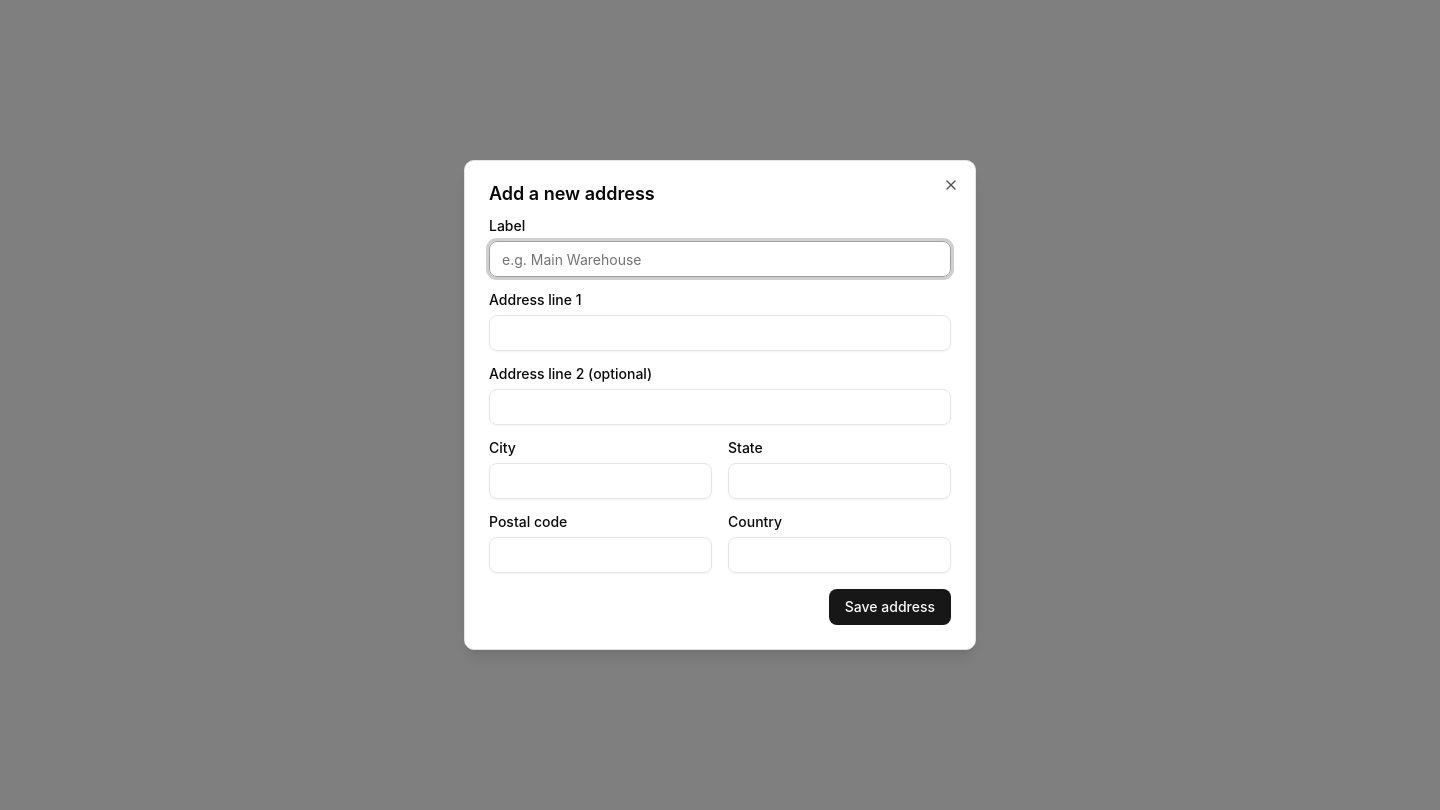
AddLocationDialog › shows a success toast and closes the dialog when saving succeeds
Step 1. Type "Main Warehouse" into the field labelled "Label" → x=720, y=259, box left=489, top=241, right=951, bottom=277
Step 2. Type "1 Main St" into the field labelled "Address line 1" → x=720, y=333, box left=489, top=315, right=951, bottom=351
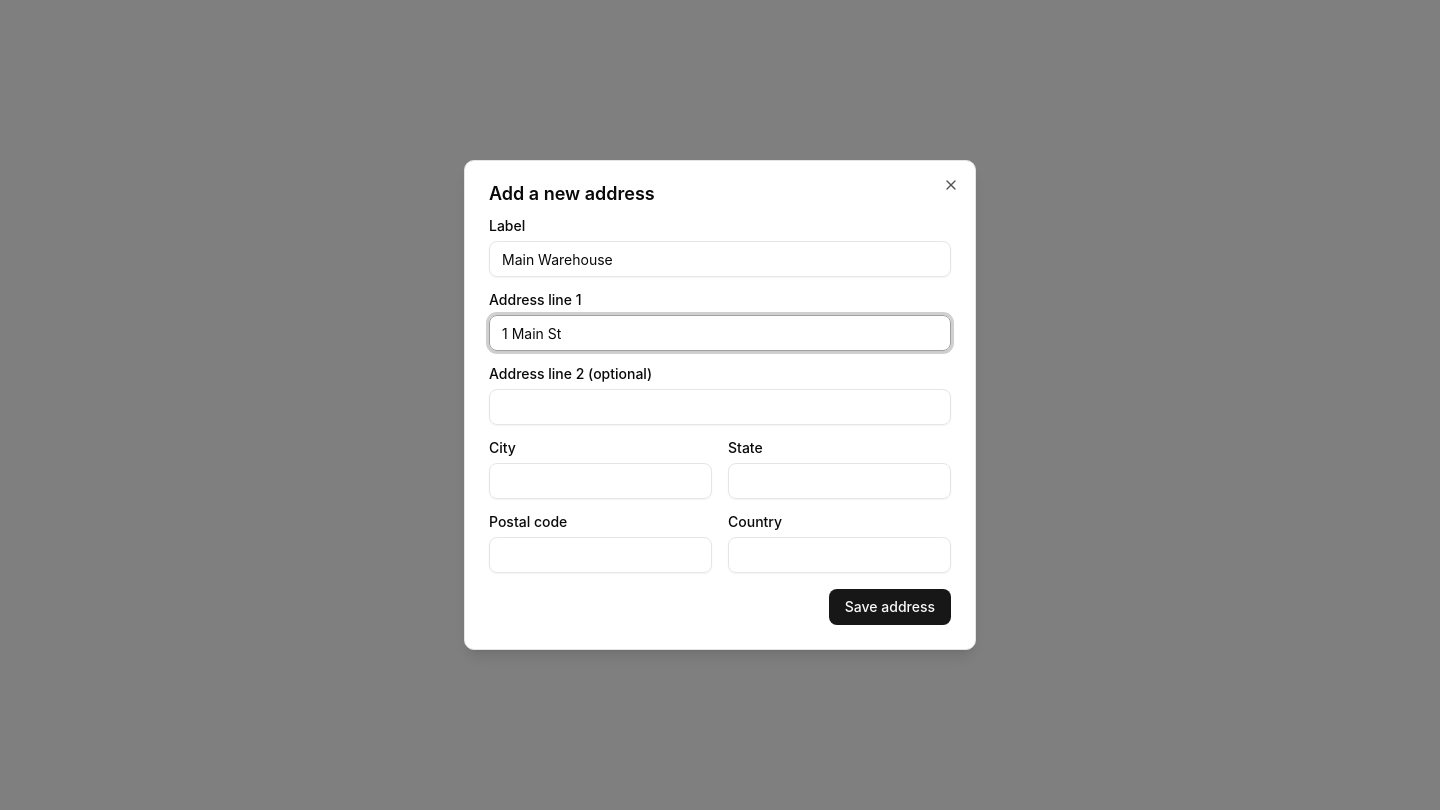
Step 3. Type "Springfield" into the field labelled "City" → x=600, y=481, box left=489, top=463, right=712, bottom=499
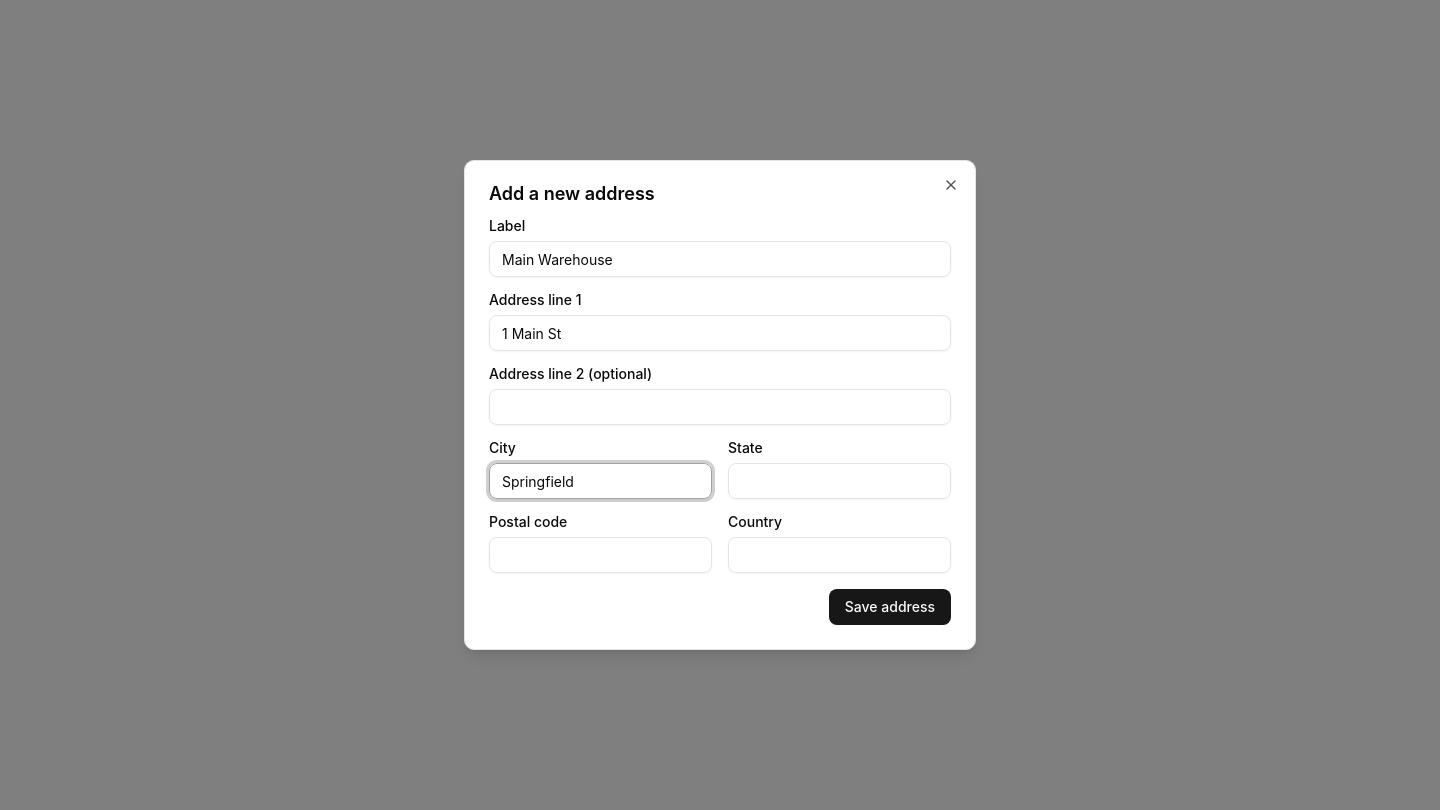
Step 4. Type "IL" into the field labelled "State" → x=840, y=481, box left=728, top=463, right=951, bottom=499
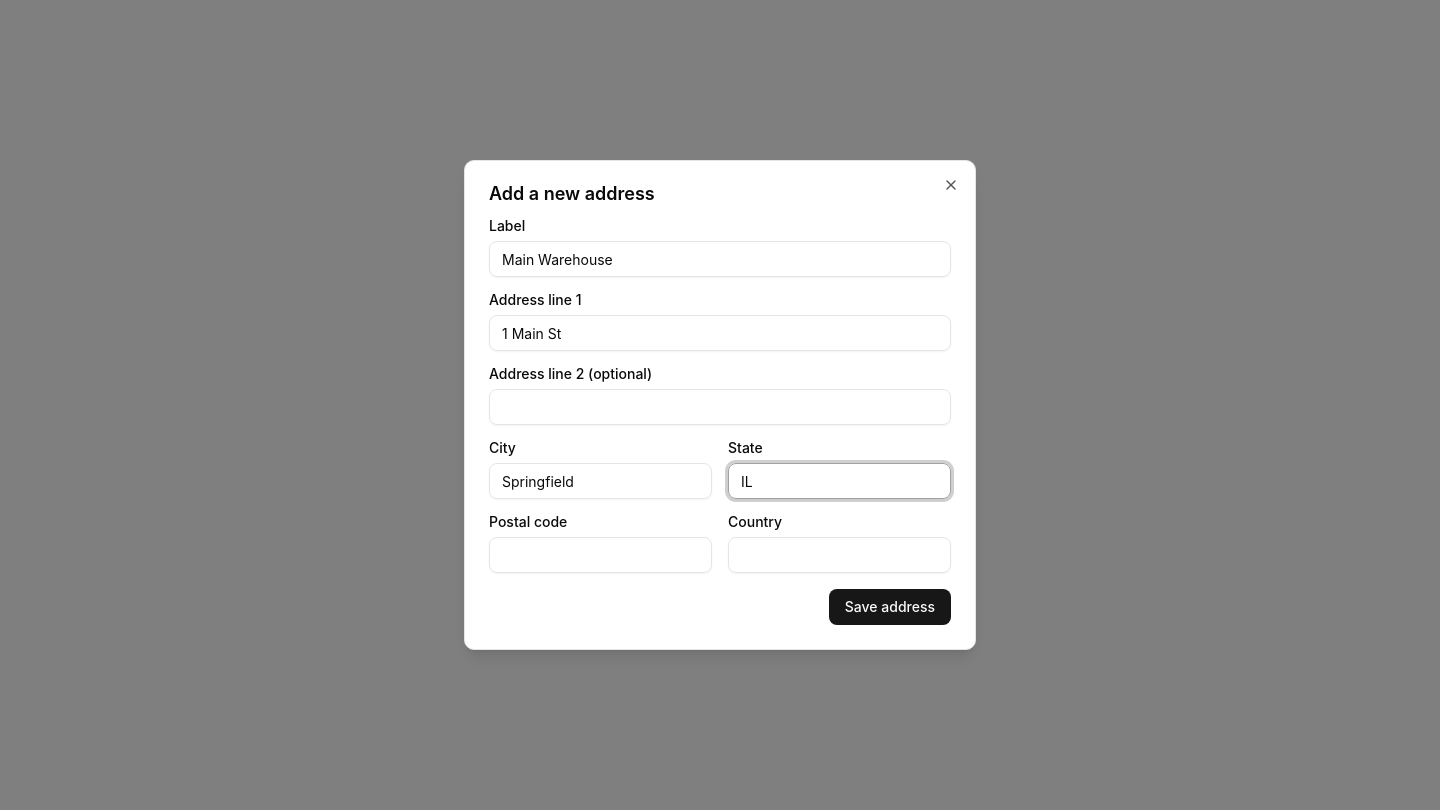
Step 5. Type "62701" into the field labelled "Postal code" → x=600, y=555, box left=489, top=537, right=712, bottom=573
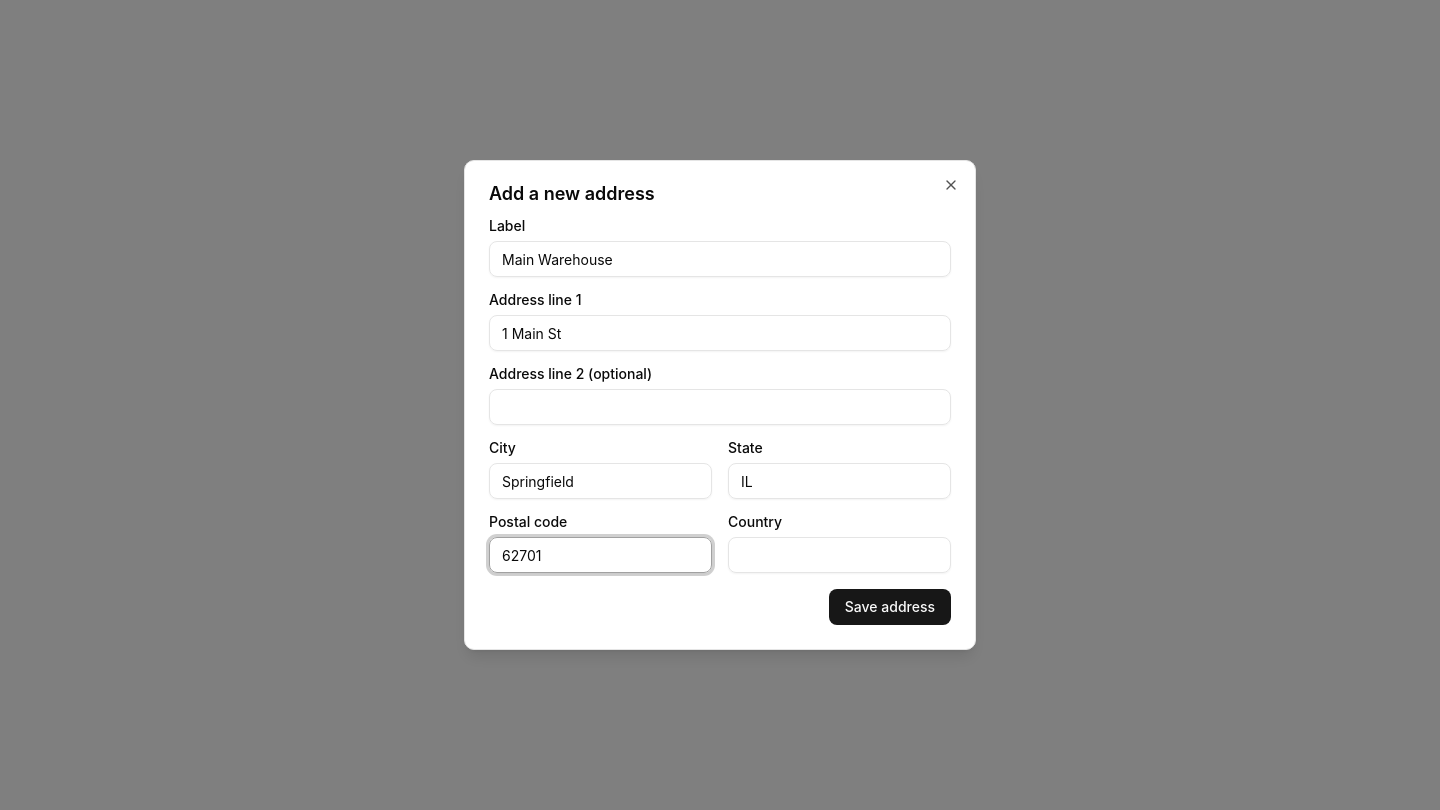
Step 6. Type "US" into the field labelled "Country" → x=840, y=555, box left=728, top=537, right=951, bottom=573
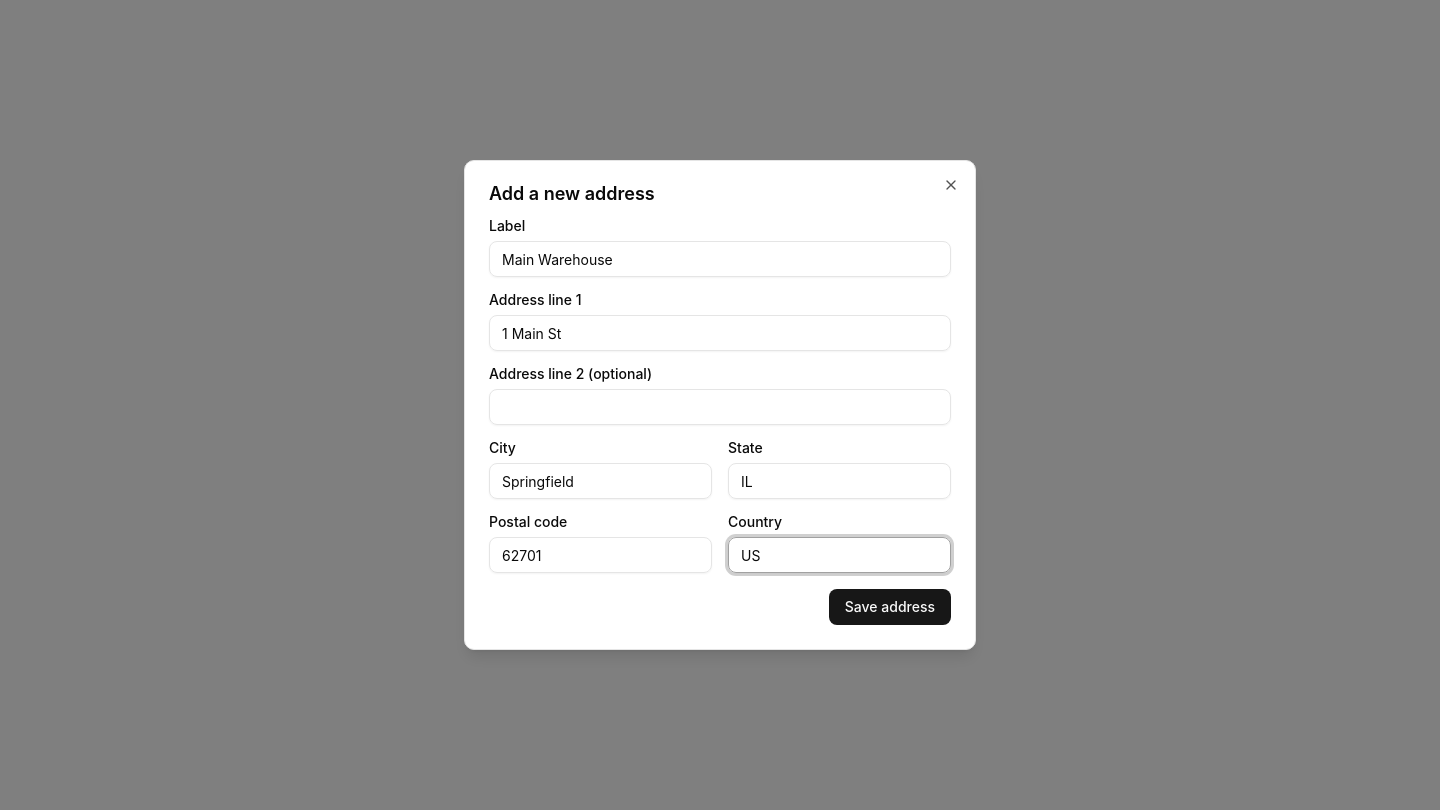
Step 7. Click the button "Save address" → x=890, y=607, box left=829, top=589, right=951, bottom=625
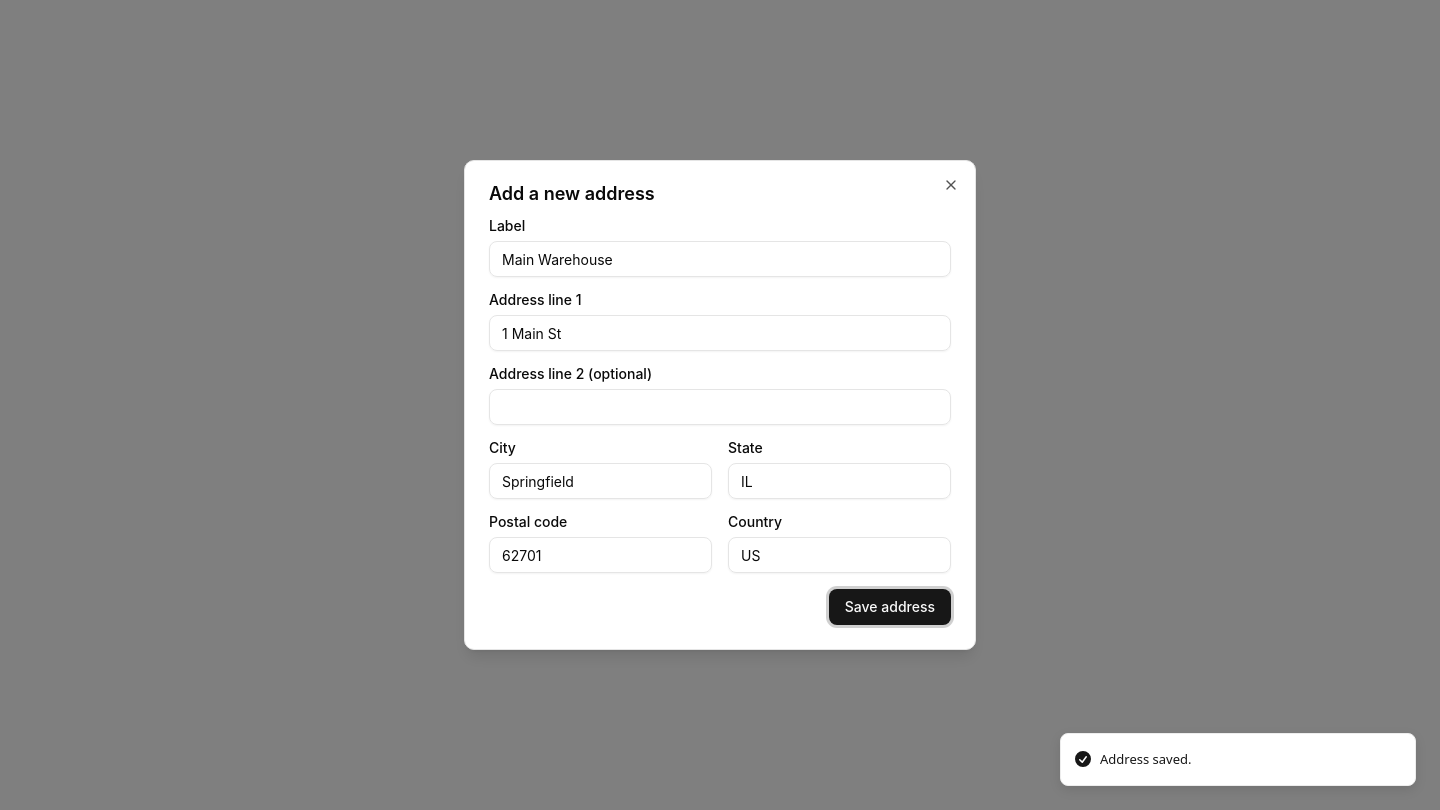
Expected: the text "Address saved." is shown, left=1100, top=750, right=1192, bottom=769
